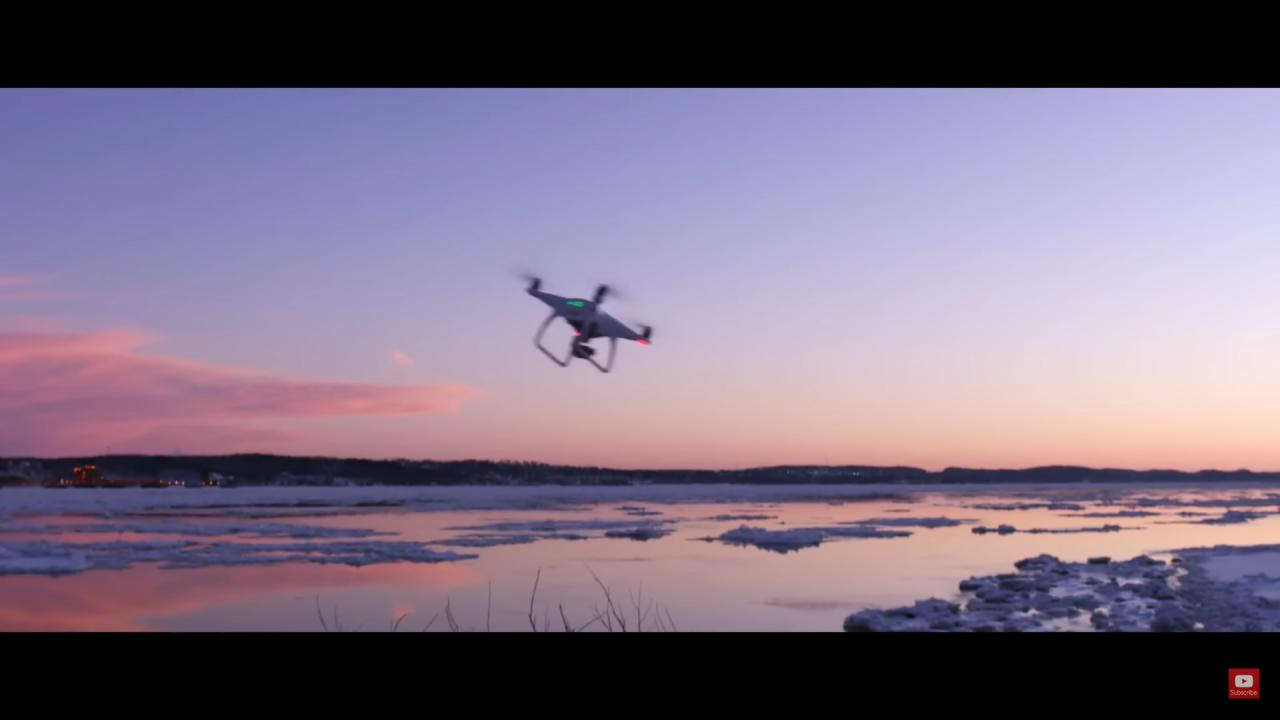Drone: (510, 259, 672, 386)
